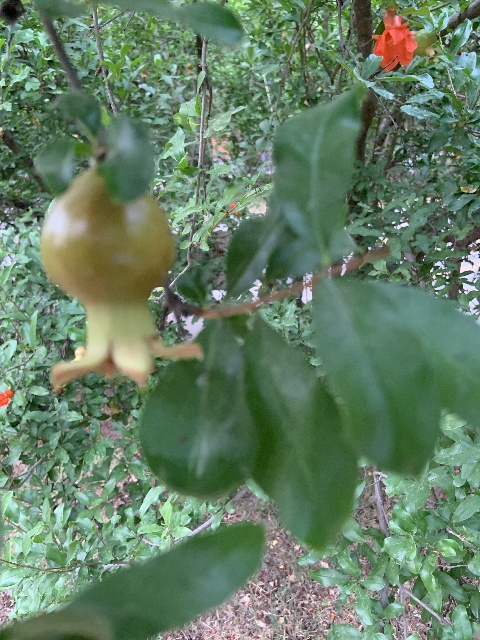early-fruit: (39, 169, 203, 391)
flower: (371, 7, 417, 71), (0, 388, 13, 407)
